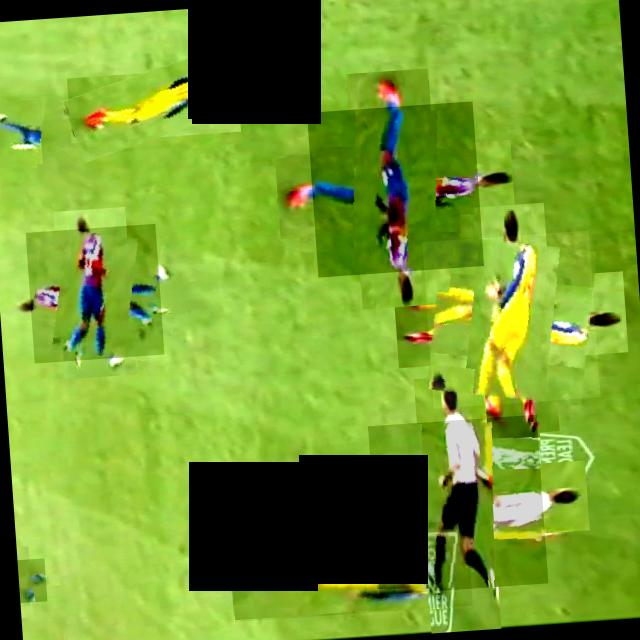referee: (366, 414, 546, 594)
soccer-player: (421, 230, 599, 408), (306, 101, 482, 277), (228, 520, 471, 622), (24, 223, 163, 363), (60, 54, 244, 154), (0, 96, 44, 169), (16, 558, 46, 603)
